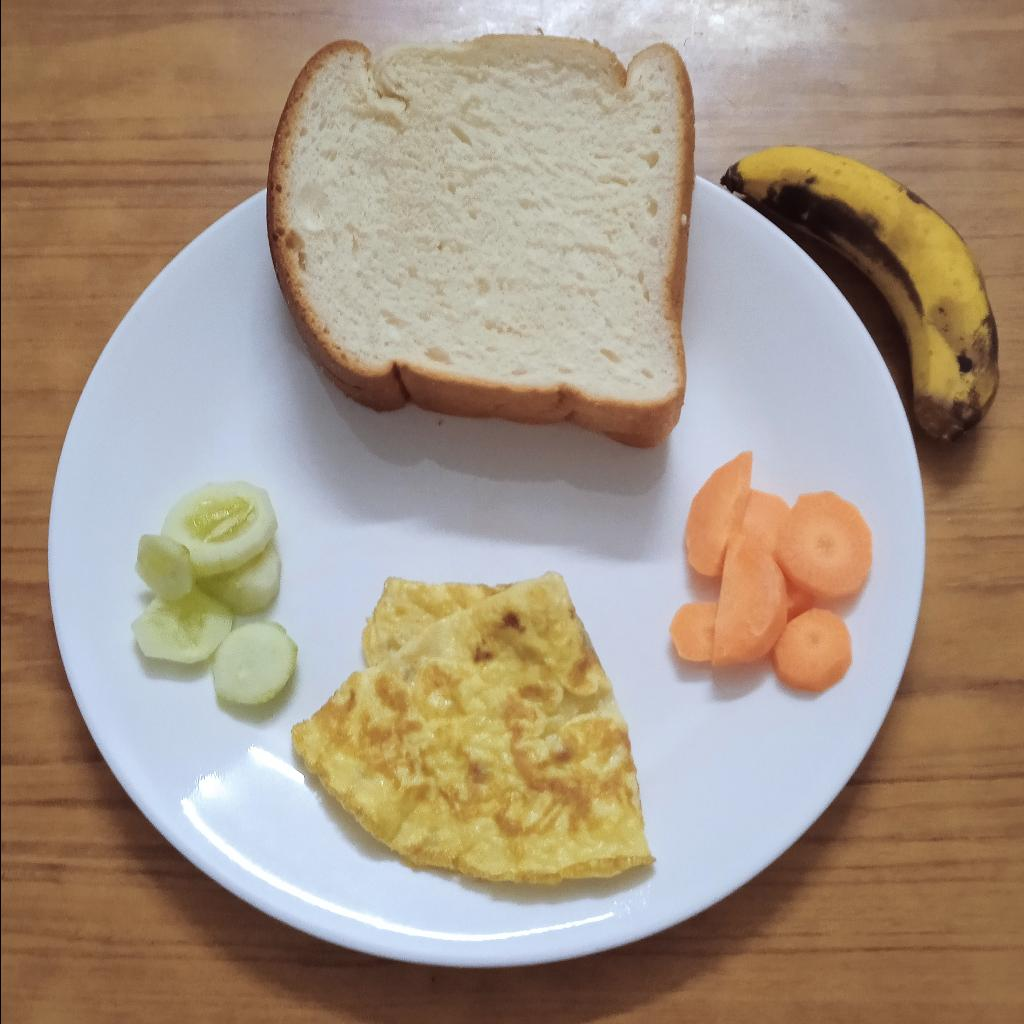banana: (719, 146, 999, 438)
bread: (266, 35, 693, 449)
carrot: (669, 450, 873, 693)
cucumber: (130, 481, 297, 705)
egg-poached: (290, 570, 657, 882)
